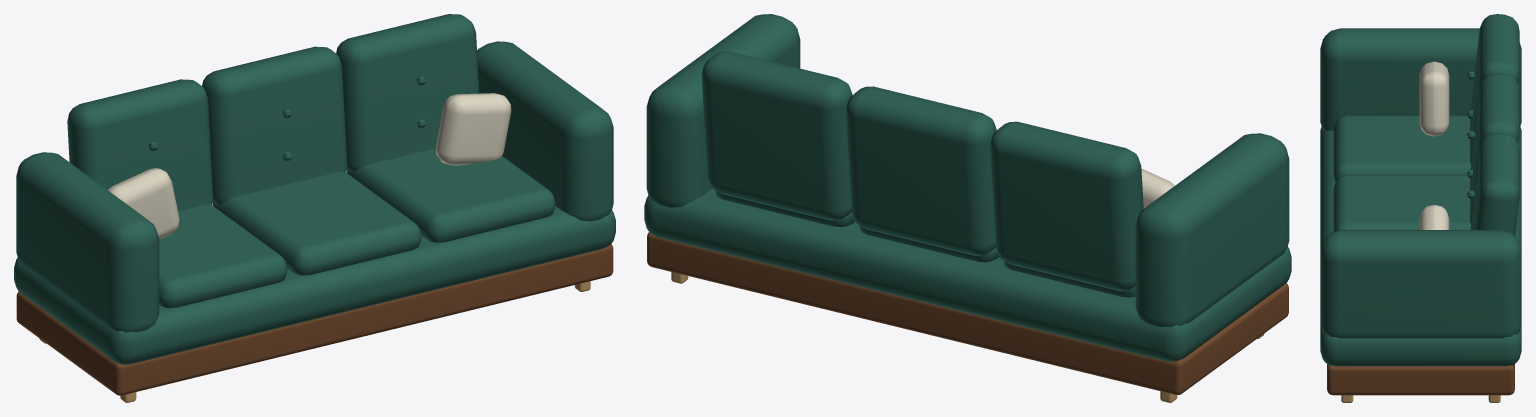
Rendered from lounge-sofa.glb.
The picture shows the model from 3 angles, left to right: view 1: azimuth 30°, elevation 25°; view 2: azimuth 150°, elevation 25°; view 3: azimuth 270°, elevation 25°; orthographic projection. The views are drawn at different scales.
Parts seen in each view (by area): view 1: Upholstered seat base, Rounded upholstered arm, Walnut plinth, Back cushion 1, Back cushion 2, Rounded upholstered arm.001, Back cushion 0, Seat cushion 1, Seat cushion 2, Seat cushion 0, Loose linen cushion.001, Loose linen cushion; view 2: Upholstered seat base, Rounded upholstered arm, Back cushion 0, Walnut plinth, Back cushion 2, Back cushion 1, Rounded upholstered arm.001, Seat cushion 2, Seat cushion 1, Seat cushion 0, Loose linen cushion; view 3: Rounded upholstered arm.001, Rounded upholstered arm, Upholstered seat base, Seat cushion 0, Seat cushion 1, Walnut plinth, Back cushion 2, Back cushion 1, Back cushion 0, Loose linen cushion, Loose linen cushion.001.
Boxes of the visible parts, x1,y1,x2,y2 form: Upholstered seat base: (14,206,615,364); Rounded upholstered arm: (16,152,159,332); Walnut plinth: (16,244,613,395); Back cushion 1: (202,46,347,204); Back cushion 2: (336,14,479,171); Rounded upholstered arm.001: (477,41,613,221); Back cushion 0: (67,79,213,210); Seat cushion 1: (213,171,421,275); Seat cushion 2: (347,148,555,242); Seat cushion 0: (159,204,287,308); Loose linen cushion.001: (435,93,511,165); Loose linen cushion: (108,168,179,239); Upholstered seat base: (644,188,1291,361); Rounded upholstered arm: (1135,133,1289,327); Back cushion 0: (990,121,1143,291); Walnut plinth: (647,232,1288,394); Back cushion 2: (701,51,852,220); Back cushion 1: (846,86,996,255); Rounded upholstered arm.001: (646,14,800,207); Seat cushion 2: (715,190,855,227); Seat cushion 1: (859,225,999,262); Seat cushion 0: (1003,260,1135,297); Loose linen cushion: (1141,168,1174,208); Rounded upholstered arm.001: (1320,230,1521,338); Rounded upholstered arm: (1320,28,1521,131); Upholstered seat base: (1320,127,1521,366); Seat cushion 0: (1333,115,1470,182); Seat cushion 1: (1333,175,1470,231); Walnut plinth: (1327,364,1514,395); Back cushion 2: (1470,133,1519,235); Back cushion 1: (1470,73,1519,224); Back cushion 0: (1470,14,1519,164); Loose linen cushion: (1419,61,1449,136); Loose linen cushion.001: (1419,205,1449,229).
Size of the model in its own units: 3.95 by 1.67 by 1.5.
